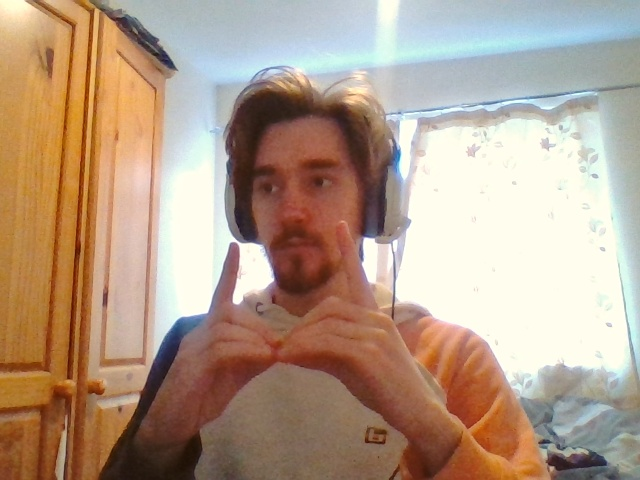meet: (195, 221, 388, 387)
